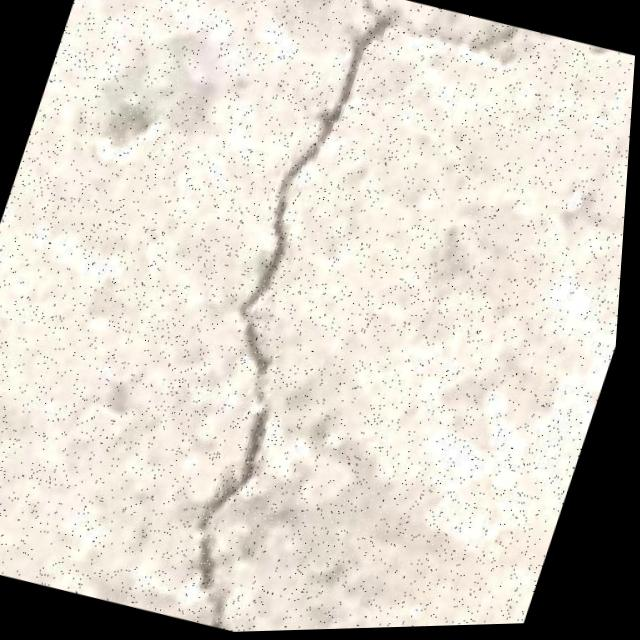Crack: (139, 0, 524, 636)
